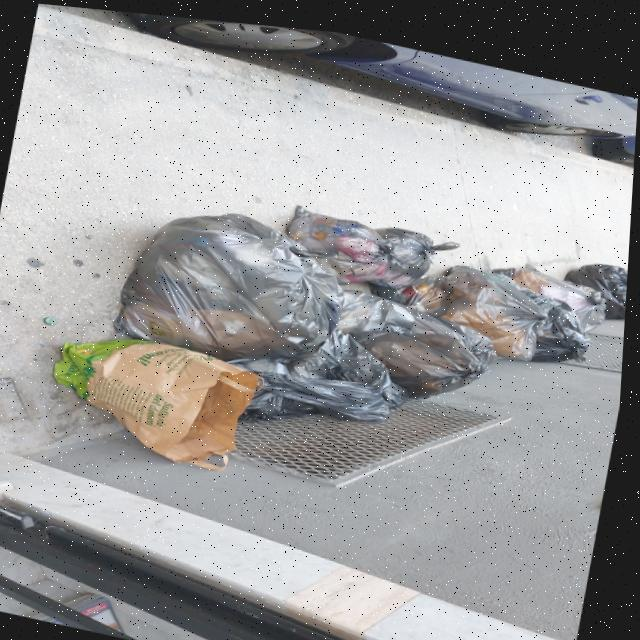Mixed Waste -Black Bag-: (119, 188, 350, 375), (319, 275, 506, 404), (243, 310, 418, 447), (437, 247, 615, 364), (282, 196, 391, 287), (365, 214, 441, 290), (564, 244, 632, 318)
